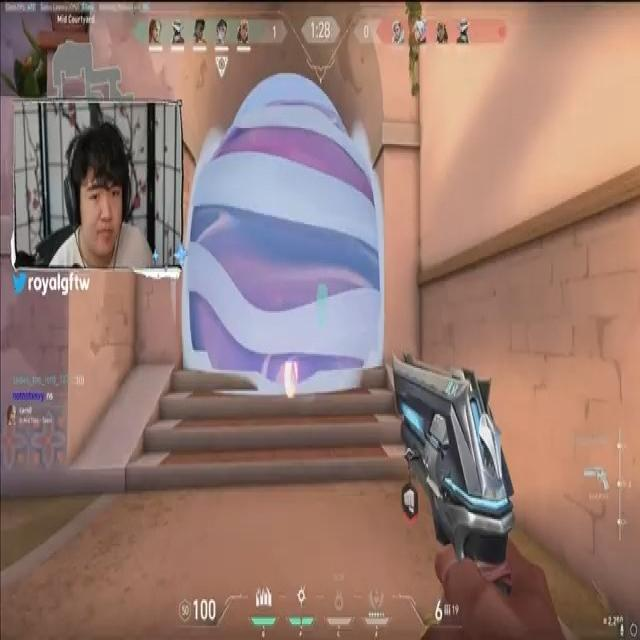smoke: (186, 111, 382, 392)
